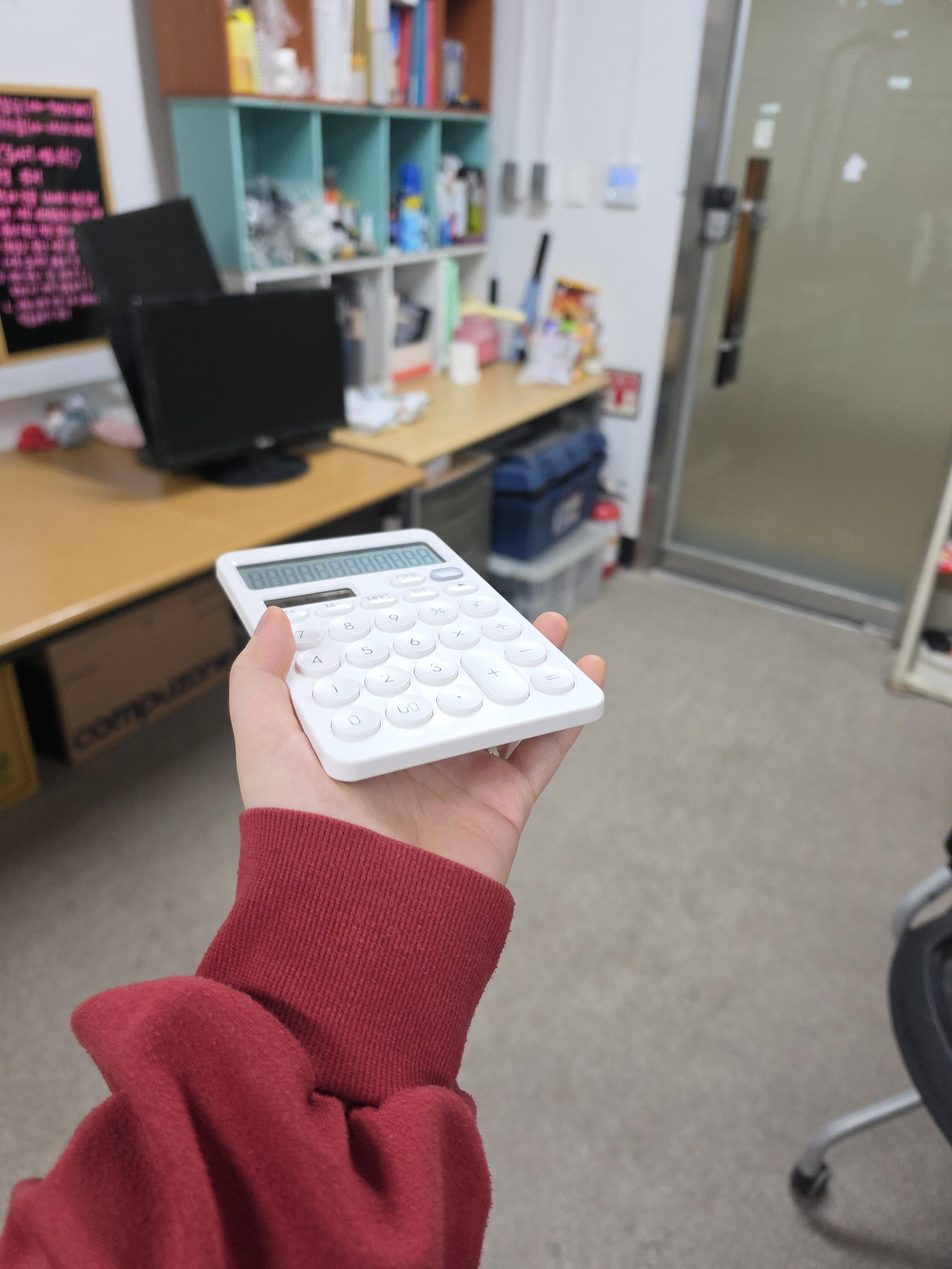calculator: (215, 528, 605, 783)
